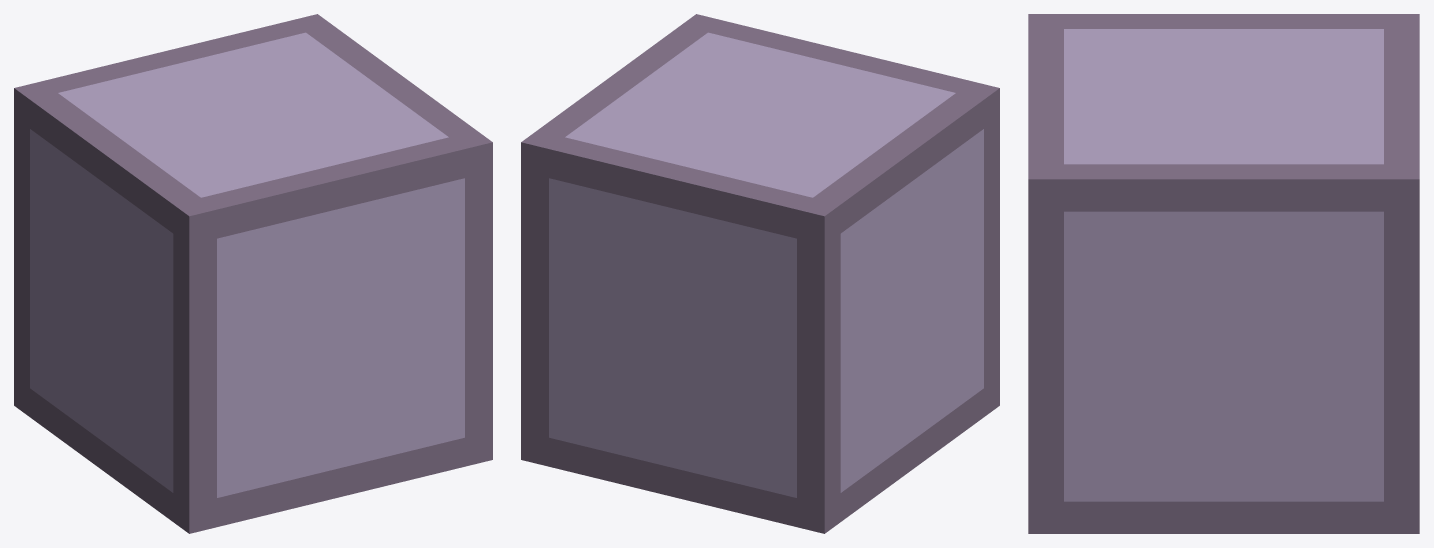
File: quaternius-cube-world-block-blank-8.glb
3 views of the same model, side by side, from view 1: azimuth 30°, elevation 25°; view 2: azimuth 150°, elevation 25°; view 3: azimuth 270°, elevation 25° (orthographic). The views are drawn at different scales.
Visible parts, largest first — view 1: Block_Blank; view 2: Block_Blank; view 3: Block_Blank.
Part boxes in pixels (x1,y1,x2,y2): Block_Blank: (14, 14, 492, 533); Block_Blank: (521, 14, 999, 533); Block_Blank: (1028, 14, 1419, 533).
Size of the model in its own units: 2 by 2 by 2.
Materials: 1 (1 with a texture image).
